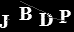B: (17, 6, 33, 21)
D: (38, 12, 54, 27)
J: (1, 13, 9, 29)
P: (57, 9, 72, 24)
